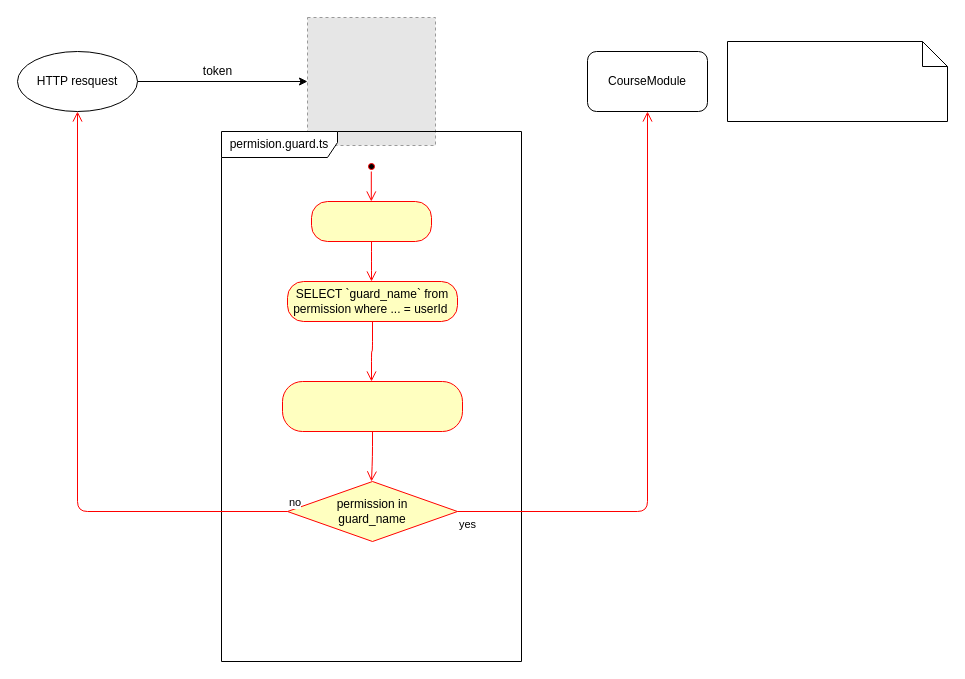
The diagram is 965 pixels wide and 679 high, and some of its shapes have lost their labels. Grey dashed boxes stand in for pictures. Each missing label, with the centre of its shape:
"... @Permission('edit-course') @UserGuard(Permission) updateCourse(){} ..." goes at (x=837, y=81).
"Decode token to get username/userId" goes at (x=371, y=221).
"get `permission` from @Permission() above CouseModule" goes at (x=372, y=406).
